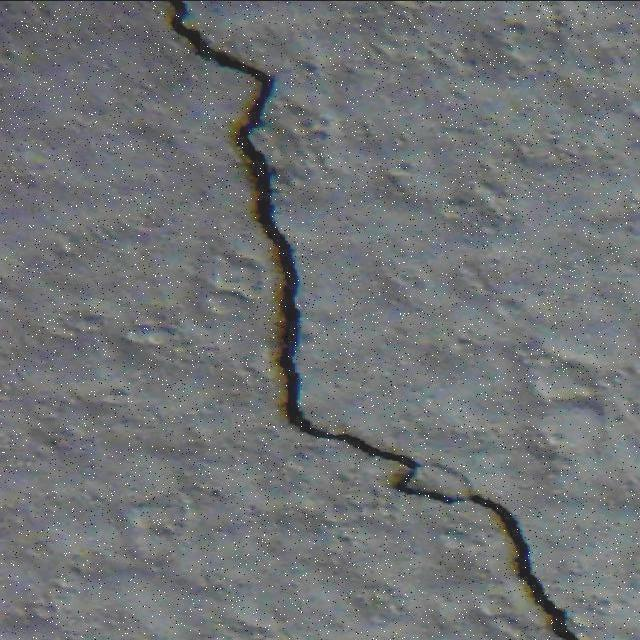crack: (164, 1, 579, 638), (163, 9, 316, 427)
